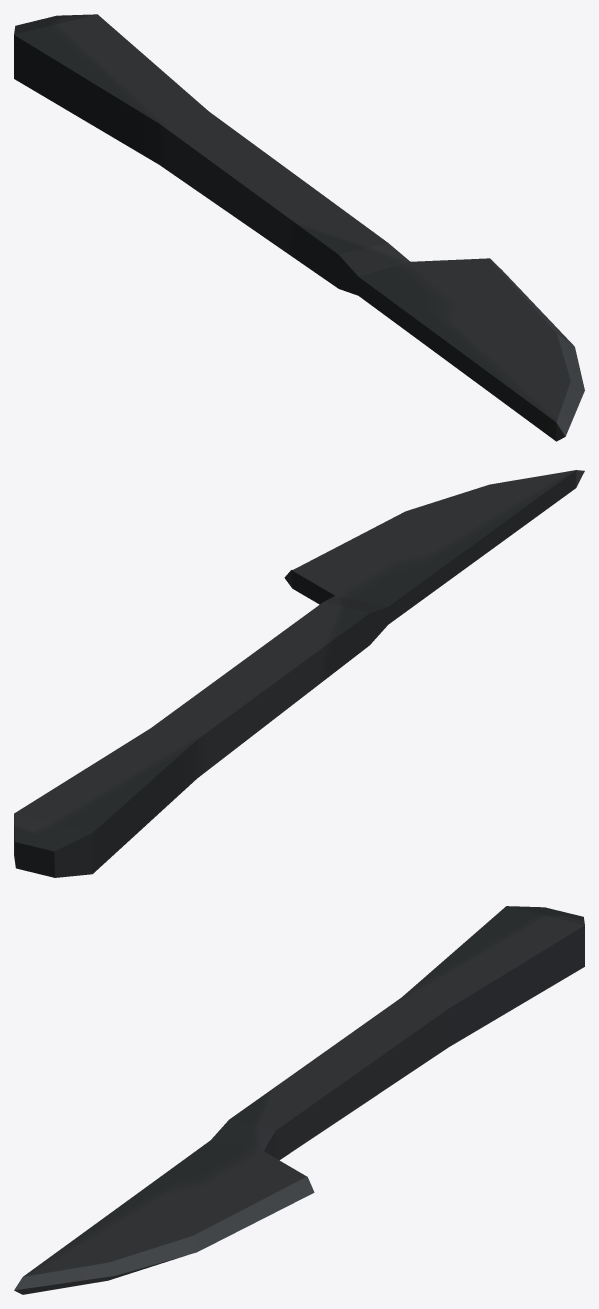
File: SM_Prop_Knife_01.fbx
3 views of the same model, one above another, from view 1: azimuth 30°, elevation 25°; view 2: azimuth 150°, elevation 25°; view 3: azimuth 330°, elevation 25° (orthographic). The views are drawn at different scales.
Parts seen in each view (by area): view 1: SM_Prop_Knife_01; view 2: SM_Prop_Knife_01; view 3: SM_Prop_Knife_01.
Boxes of the visible parts, box(x1,y1,x2,y2) form: SM_Prop_Knife_01: box(14, 14, 584, 441); SM_Prop_Knife_01: box(14, 470, 584, 877); SM_Prop_Knife_01: box(14, 906, 584, 1294).
Bounding box in the file's own units: 5.83 × 1.86 × 39.63.
